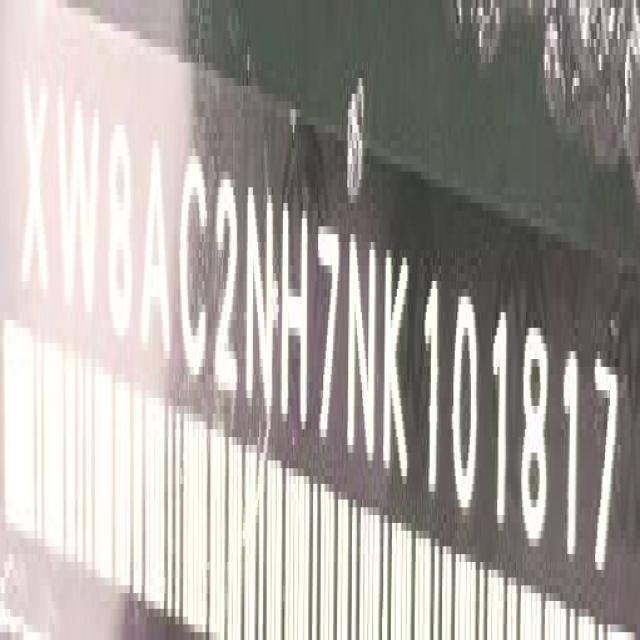0: (452, 286, 480, 524)
1: (559, 338, 579, 572), (421, 264, 439, 506), (490, 301, 506, 540)
2: (214, 166, 240, 402)
7: (594, 354, 622, 588), (316, 217, 341, 456)
8: (523, 320, 550, 554), (110, 117, 134, 346)
A: (142, 137, 172, 366)
C: (181, 150, 210, 388)
H: (281, 195, 309, 438)
K: (380, 249, 413, 500)
N: (347, 231, 379, 479), (247, 183, 277, 427)
W: (57, 81, 100, 326)
X: (20, 66, 50, 312)
